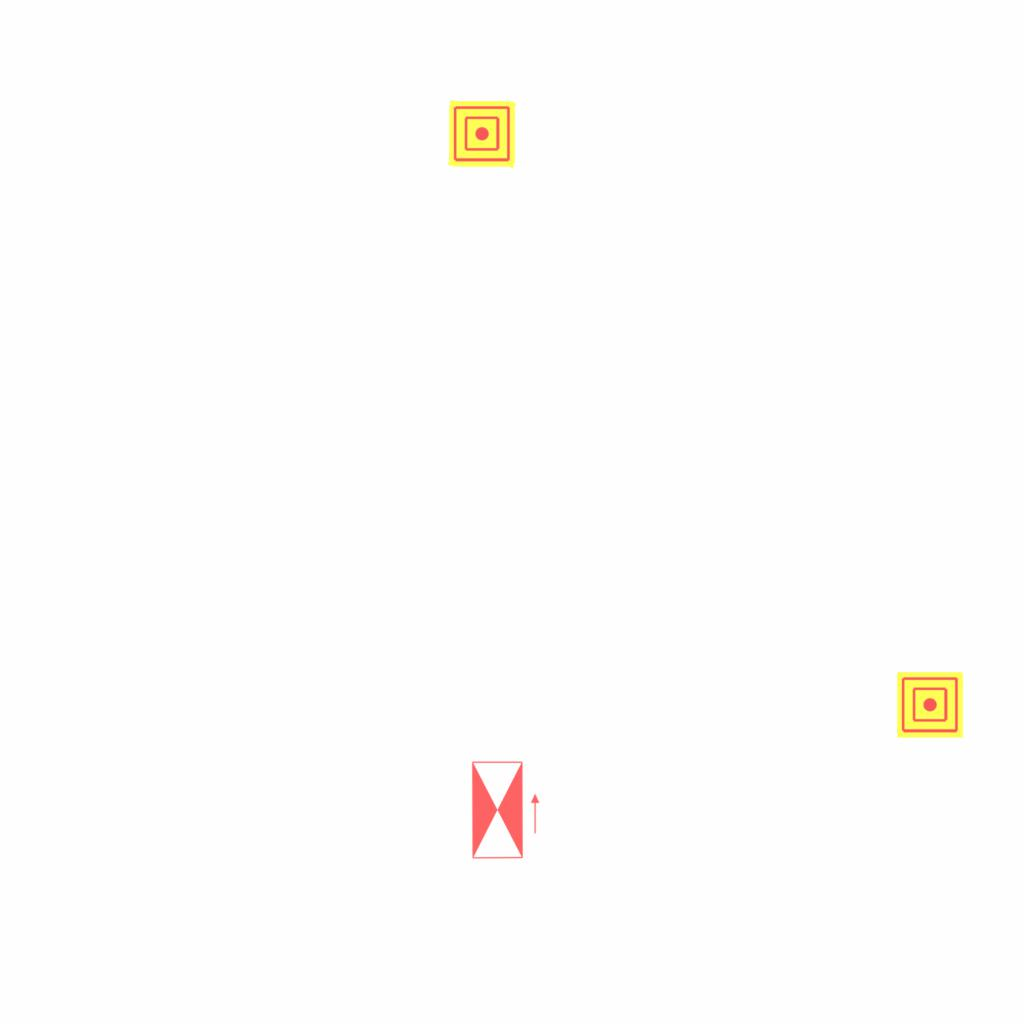Fluchtwegpiktogramm: (469, 758, 542, 862)
NAM-Nichtautomatischer_Melder: (448, 100, 516, 168), (897, 672, 963, 738)
